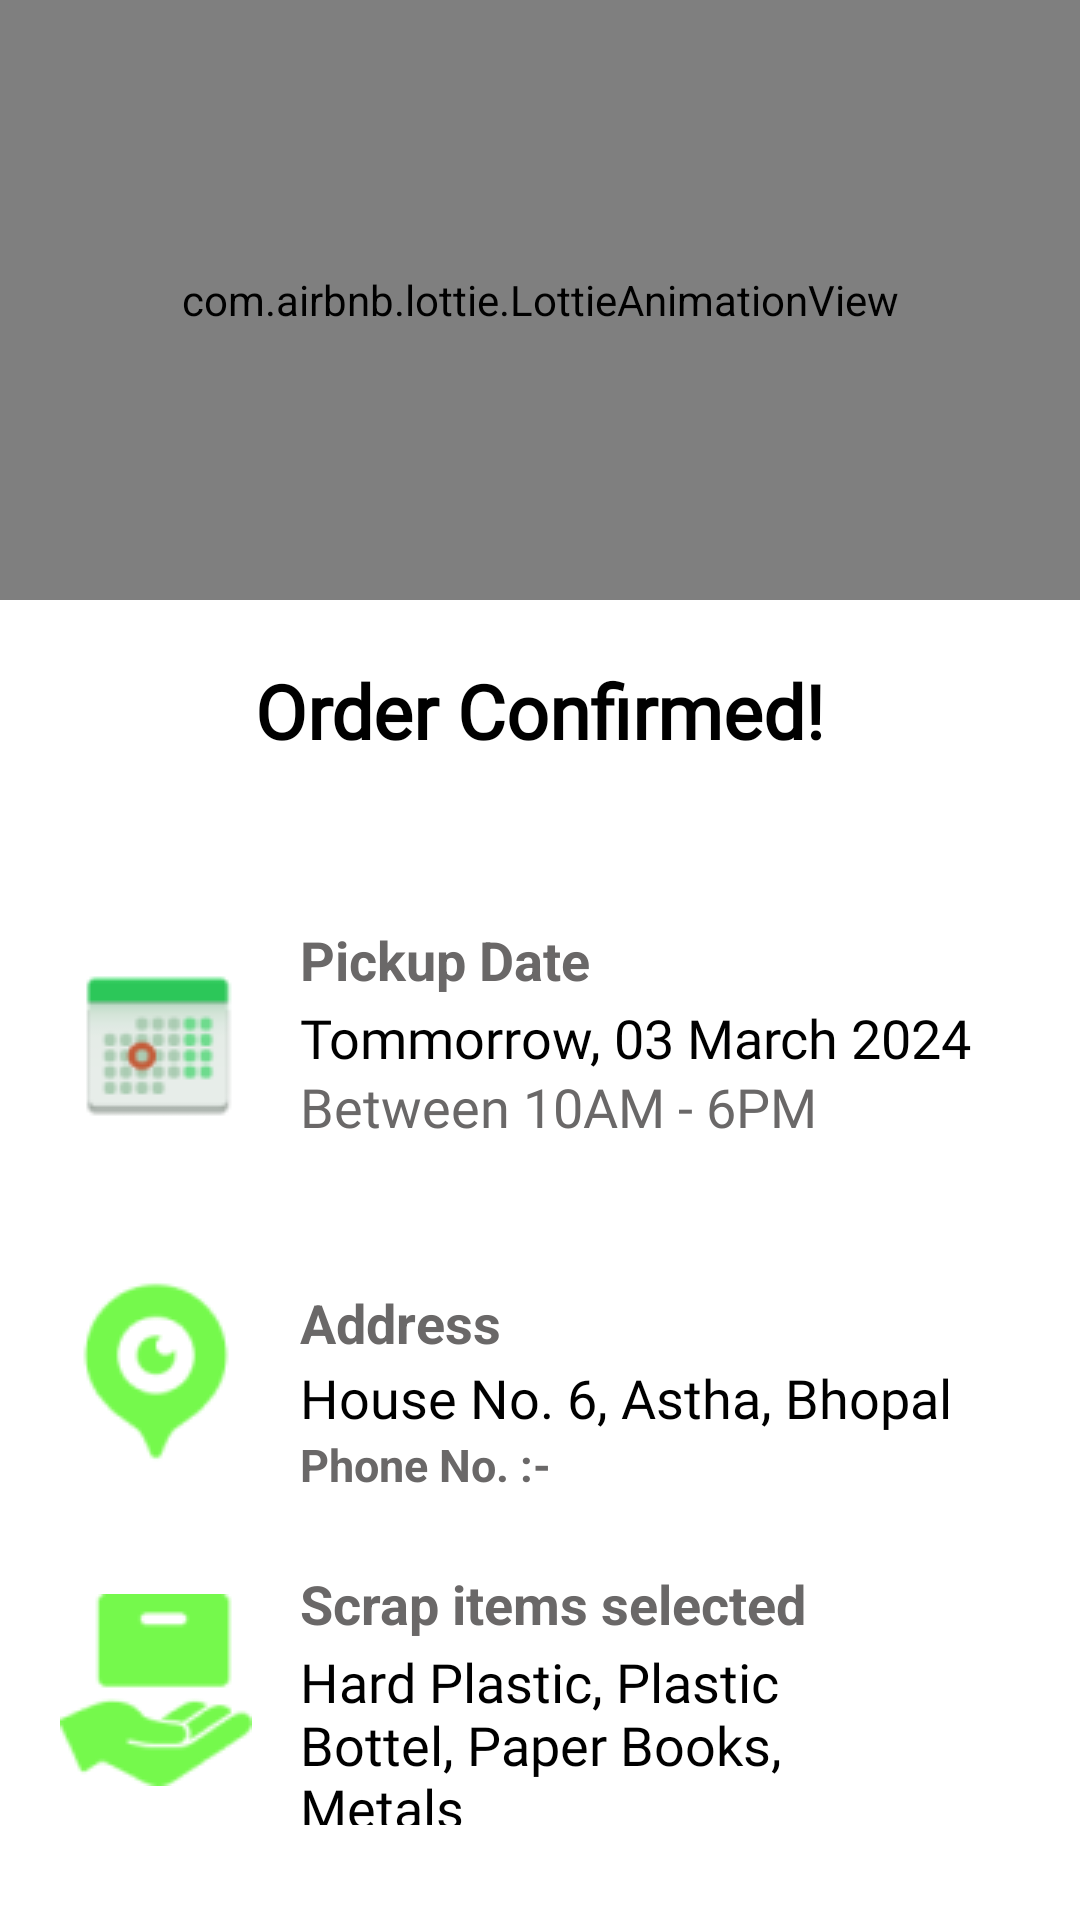

Icon click points for this 1080x1920 phone screenshot, format [x,y]:
confirmed date: [158,1045]
confirmed location: [156,1371]
confirmed scrap items: [156,1690]
